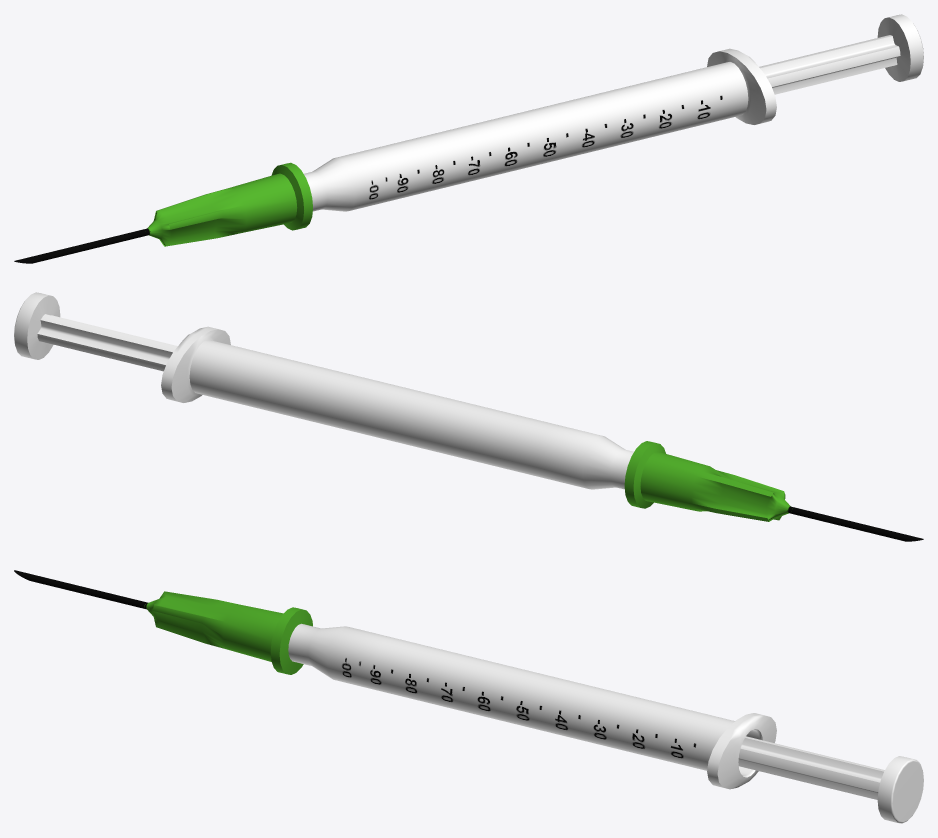
Rendered from chuta.fbx.
3 views of the same model, one above another, from view 1: azimuth 30°, elevation 25°; view 2: azimuth 150°, elevation 25°; view 3: azimuth 330°, elevation 25° (orthographic).
Parts seen in each view (by area): view 1: chutaJeringa, chutaaguja, chutaembolo; view 2: chutaJeringa, chutaaguja, chutaembolo; view 3: chutaJeringa, chutaaguja, chutaembolo.
Part boxes in pixels (x1,y1,x2,y2): chutaJeringa: (304, 48, 776, 211); chutaaguja: (14, 162, 312, 263); chutaembolo: (759, 14, 923, 94); chutaJeringa: (161, 326, 633, 489); chutaaguja: (624, 441, 923, 541); chutaembolo: (14, 292, 177, 371); chutaJeringa: (288, 623, 776, 789); chutaaguja: (14, 570, 312, 674); chutaembolo: (738, 736, 923, 823).
Bounding box in the file's own units: 40.31 × 2.63 × 4.64.
